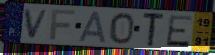A: (78, 10, 109, 44)
E: (164, 14, 194, 49)
F: (49, 9, 77, 42)
O: (109, 12, 135, 45)
T: (142, 12, 167, 48)
V: (23, 8, 50, 40)
